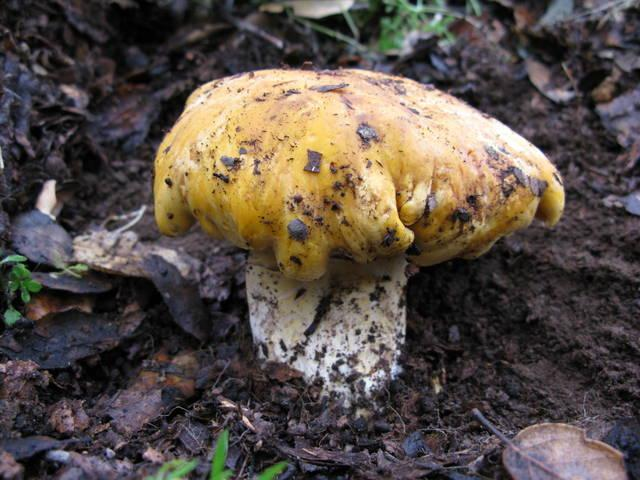Edible Mushroom: (151, 65, 566, 428)
